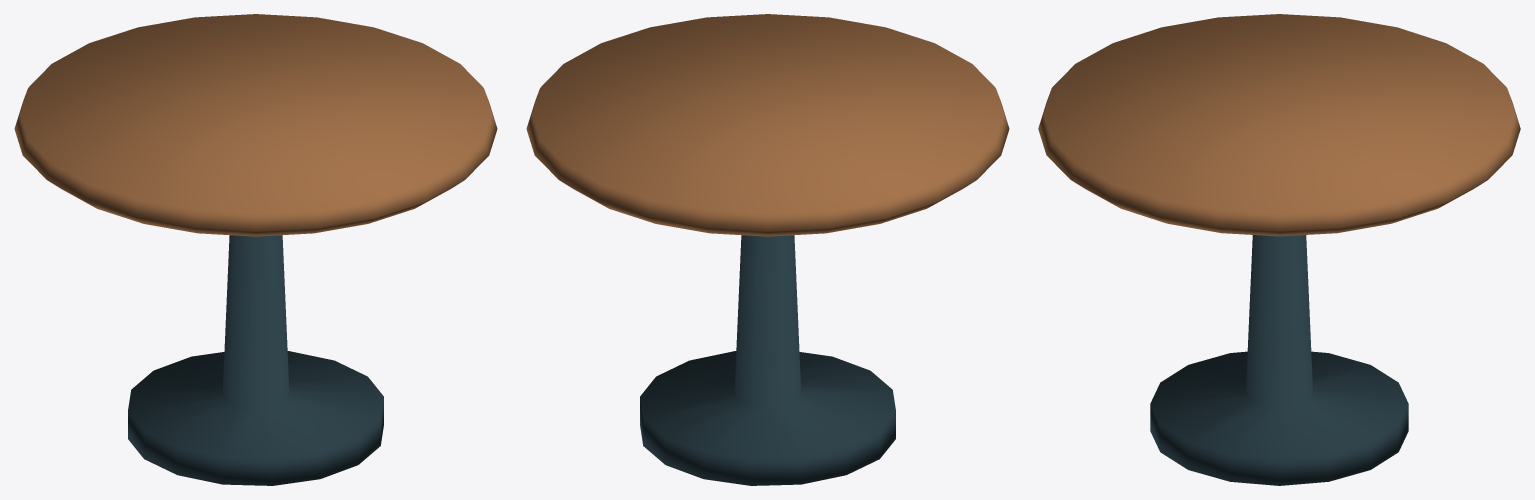
File: CafeTable.fbx
3 views of the same model, side by side, from view 1: azimuth 30°, elevation 25°; view 2: azimuth 150°, elevation 25°; view 3: azimuth 270°, elevation 25° (orthographic).
Visible parts, largest first — view 1: CafeTable_Wood, CafeTable_Metal; view 2: CafeTable_Wood, CafeTable_Metal; view 3: CafeTable_Wood, CafeTable_Metal.
Boxes of the visible parts, x1=… form: CafeTable_Wood: x1=14, y1=14, x2=497, y2=236; CafeTable_Metal: x1=128, y1=235, x2=383, y2=485; CafeTable_Wood: x1=526, y1=14, x2=1009, y2=236; CafeTable_Metal: x1=640, y1=235, x2=895, y2=485; CafeTable_Wood: x1=1038, y1=14, x2=1520, y2=236; CafeTable_Metal: x1=1150, y1=235, x2=1408, y2=485.
Size of the model in its own units: 0.86 by 0.625 by 0.86.
